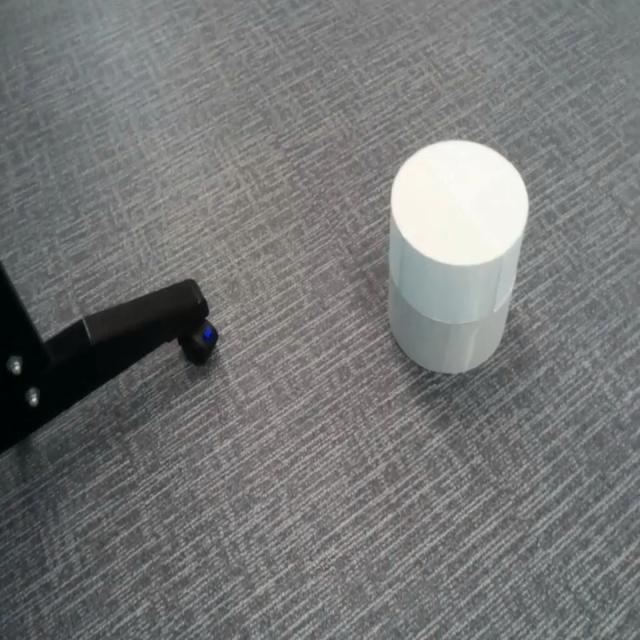cylinder: (387, 138, 531, 375)
